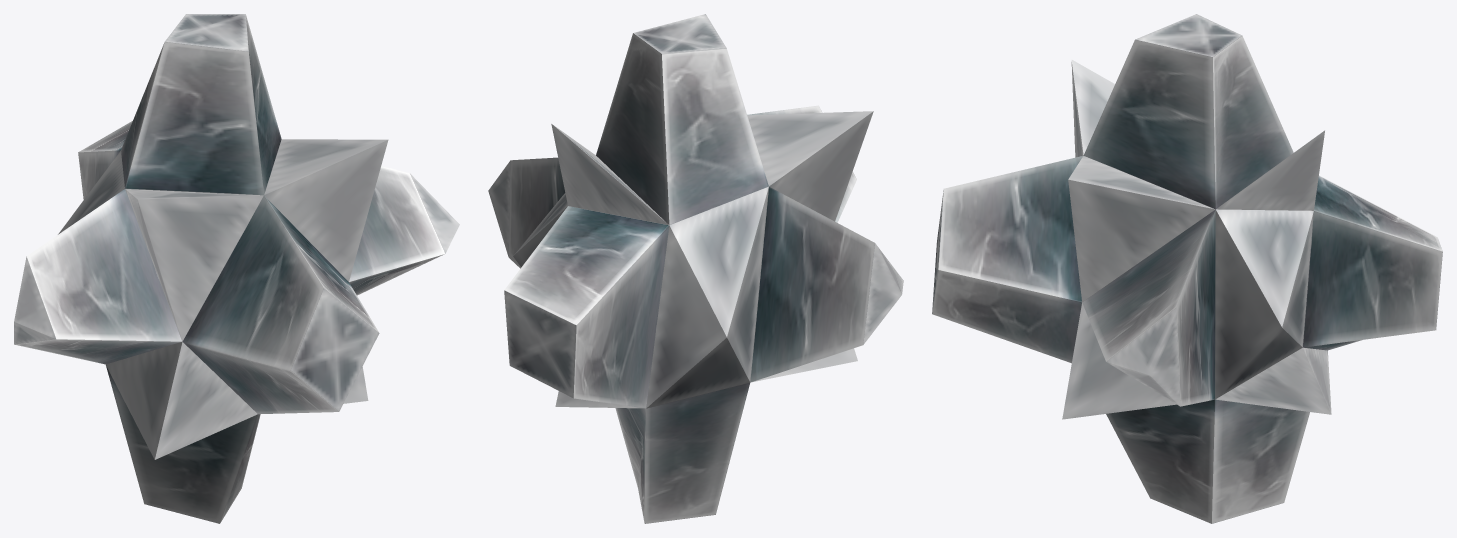
File: Crystal_Sml_A_01.FBX
3 renders of one model, left to right at view 1: azimuth 30°, elevation 25°; view 2: azimuth 150°, elevation 25°; view 3: azimuth 270°, elevation 25°, orthographic. The views are drawn at different scales.
Visible parts, largest first — view 1: Crystal_Sml_A_01; view 2: Crystal_Sml_A_01; view 3: Crystal_Sml_A_01.
Part boxes in pixels (bbox=[...]): Crystal_Sml_A_01: bbox=[14, 14, 459, 523]; Crystal_Sml_A_01: bbox=[488, 14, 903, 523]; Crystal_Sml_A_01: bbox=[932, 14, 1442, 523].
Size of the model in its own units: 226 by 233 by 230.
Materials: 1 (1 with a texture image).
